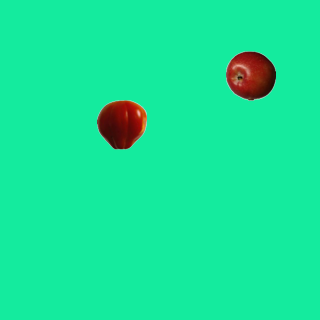Apple Braeburn: (225, 50, 275, 100)
Tomato 1: (96, 99, 146, 149)
